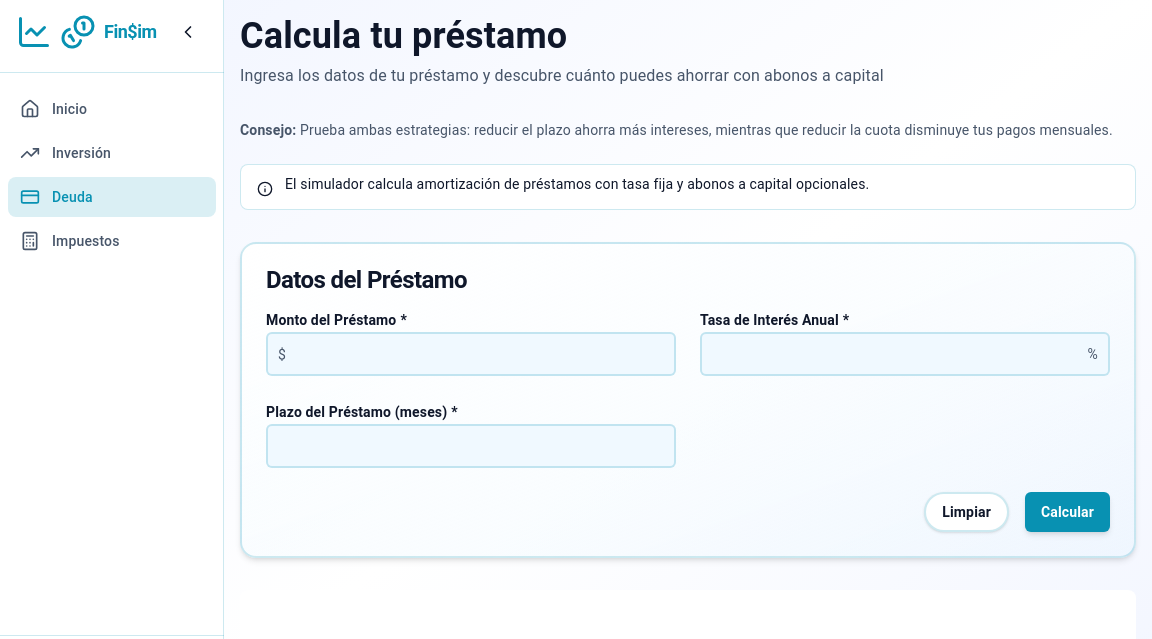
Test case: Debt Flow Integration › displays results after user clicks Calcular
The width and height of the screenshot is (1152, 639).
Expected: the heading "Calcula tu préstamo" is shown, left=240, top=16, right=567, bottom=57
Type "200000" into the number field labelled "Monto del Préstamo*".
click(471, 354); type("200000")  # box left=266, top=332, right=676, bottom=376
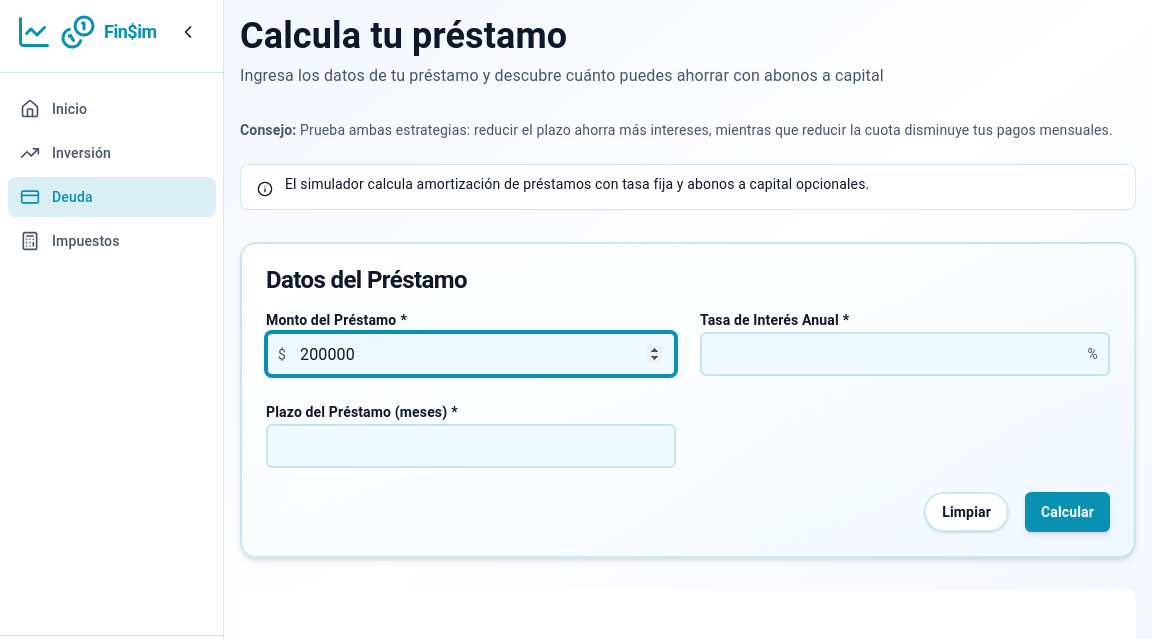
Type "5" into the number field labelled "Tasa de Interés Anual*".
click(905, 354); type("5")  # box left=700, top=332, right=1110, bottom=376
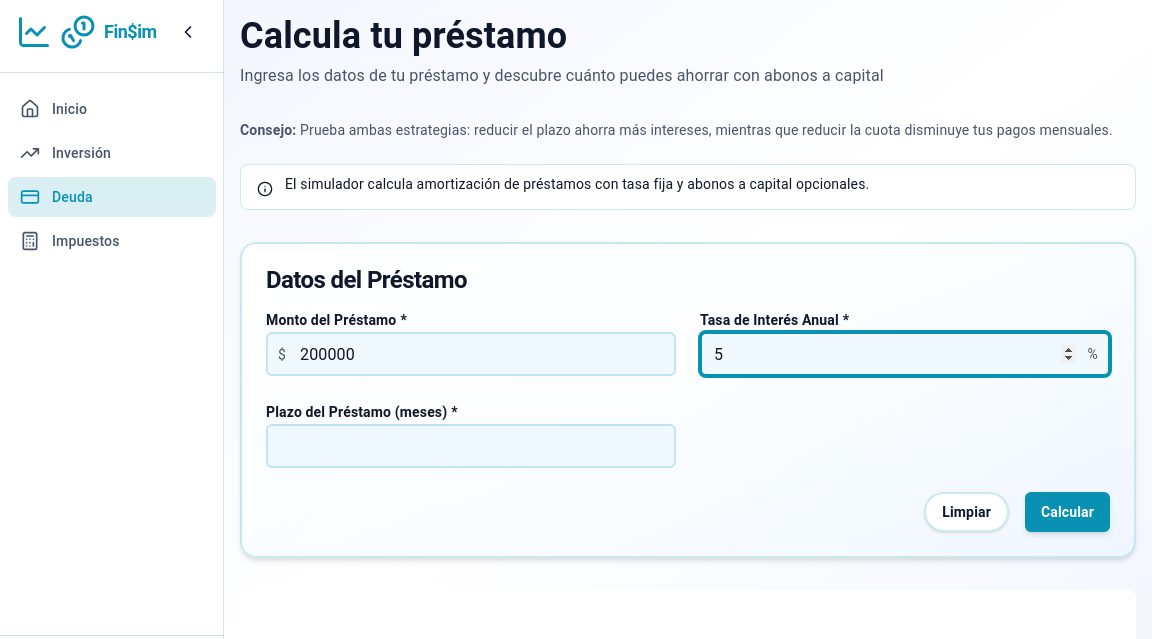
Type "360" into the number field labelled "Plazo del Préstamo (meses)*".
click(471, 446); type("360")  # box left=266, top=424, right=676, bottom=468
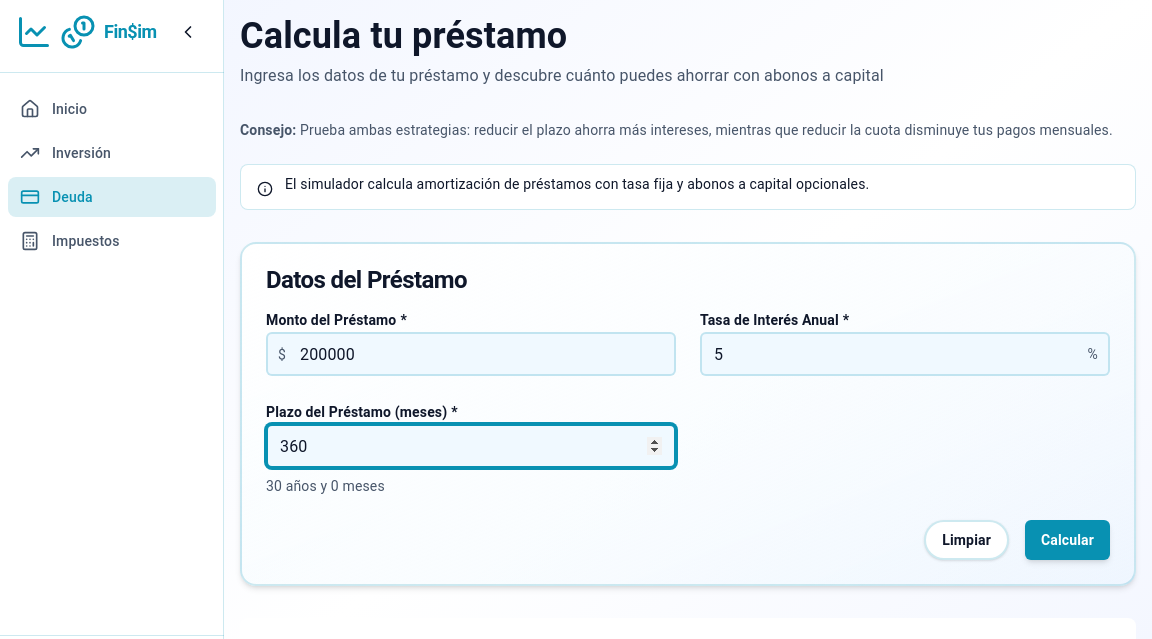
Click the button "Calcular".
click(1067, 540)  # box left=1025, top=520, right=1110, bottom=560
(page scrolled)
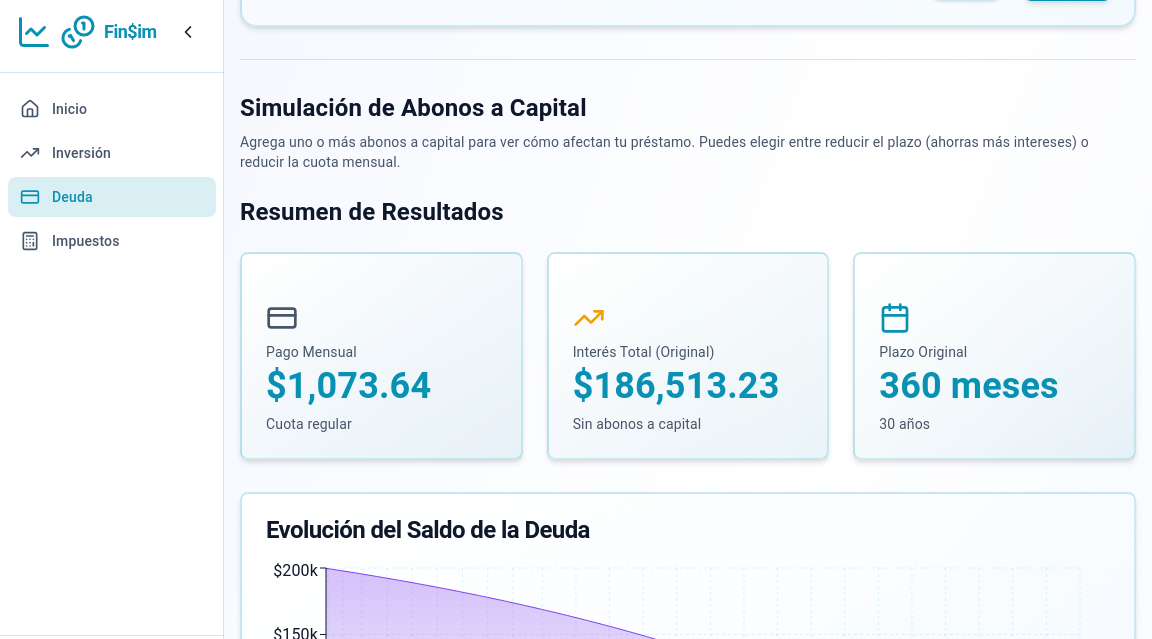
Now the heading "Resumen de Resultados" is shown, box left=240, top=198, right=504, bottom=226
Now the text "Pago Mensual" is shown, box left=266, top=344, right=357, bottom=360
